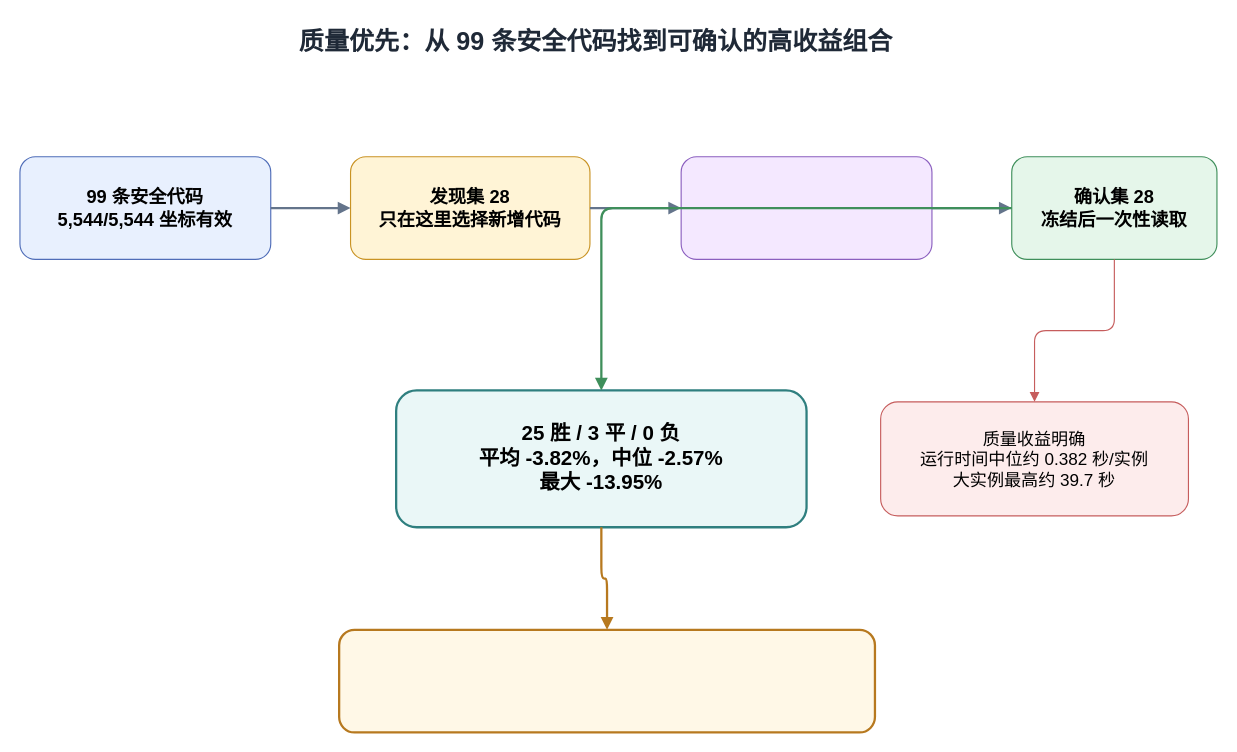
Image size: 1237x752. Some labels were removed from this diagram. The centre of each missing label's shape, as x and y in pixels:
"下一步：3 个 4461～5934 节点实例 确认 12 槽，并叠加固定 5 步成本型 2-opt" goes at (606,680).
"冻结四槽 + 8 新槽 SHA-256=af7225…" goes at (806,207).
